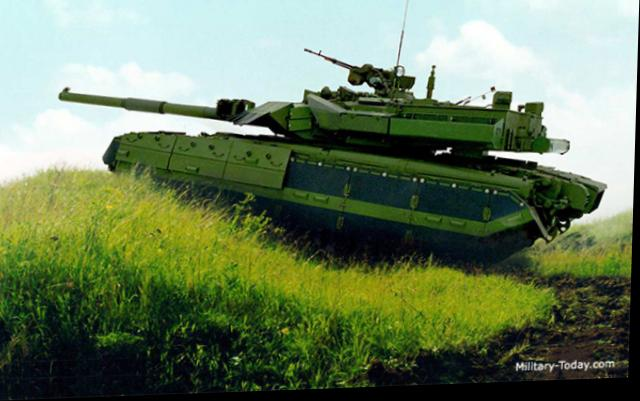tank: (103, 53, 601, 277)
